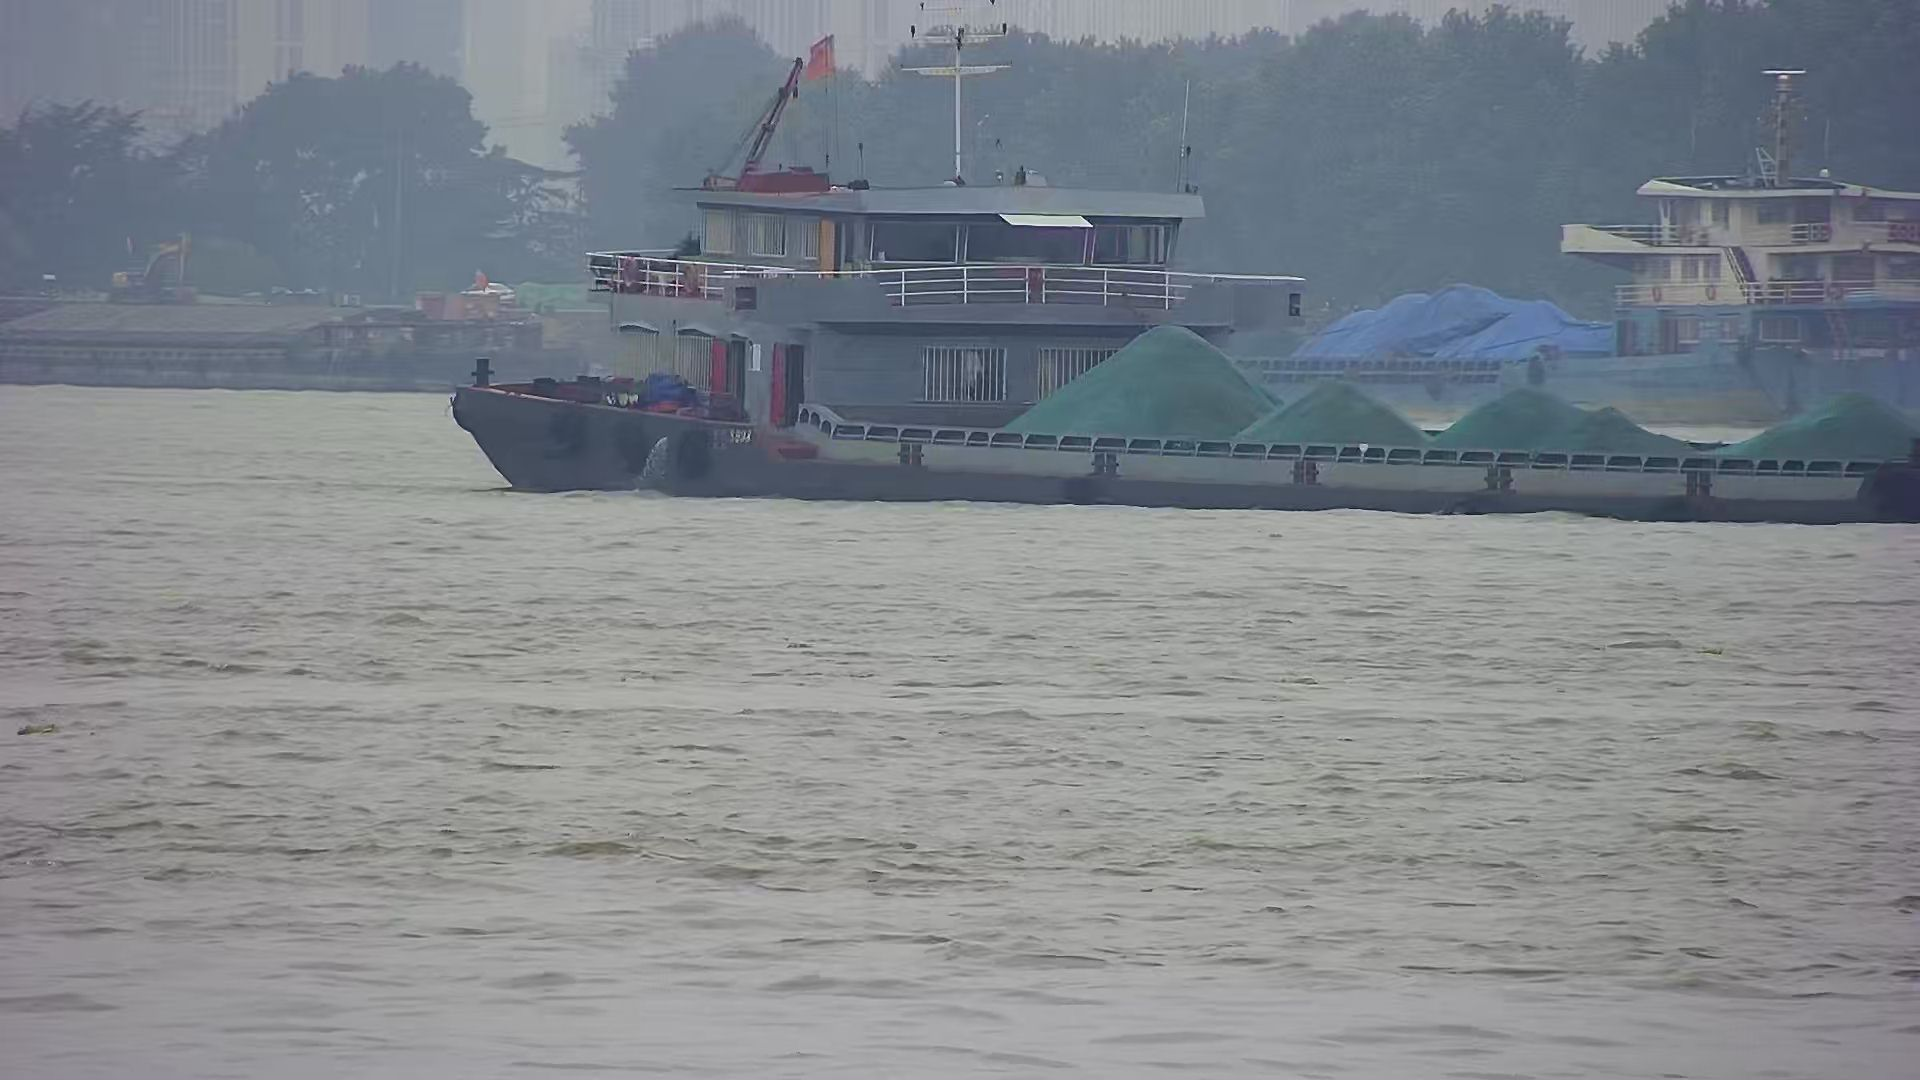ship: (443, 26, 1920, 535), (1269, 55, 1920, 417), (1, 262, 591, 398)
